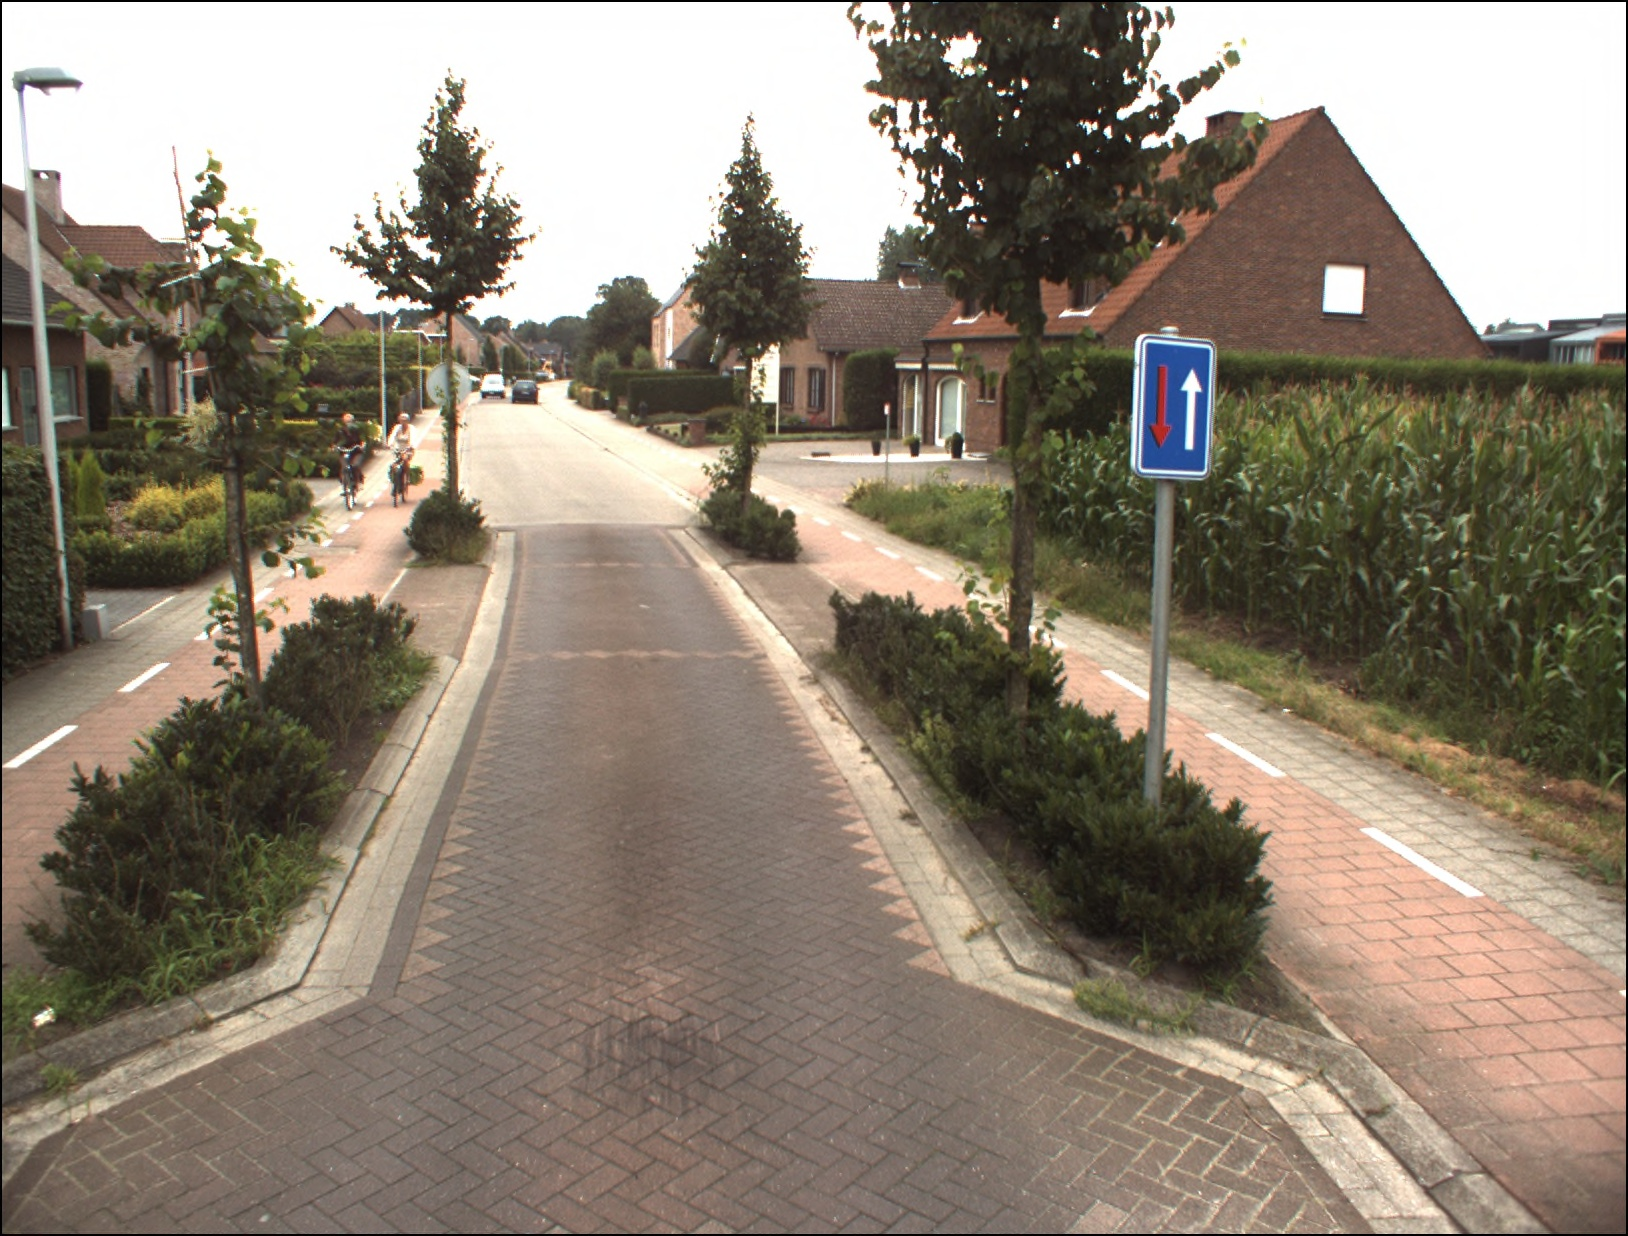roadnarrow1: (1136, 332, 1211, 476)
